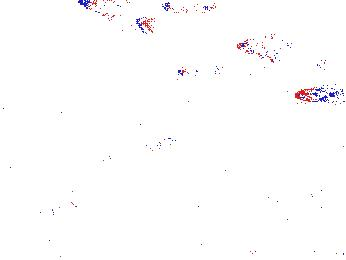glassfish: (68, 132, 182, 185)
red belly glassfish: (175, 65, 224, 80), (294, 87, 336, 104), (315, 56, 346, 69)
redtail glassfish: (74, 1, 152, 36), (238, 36, 298, 57), (161, 1, 218, 19)
